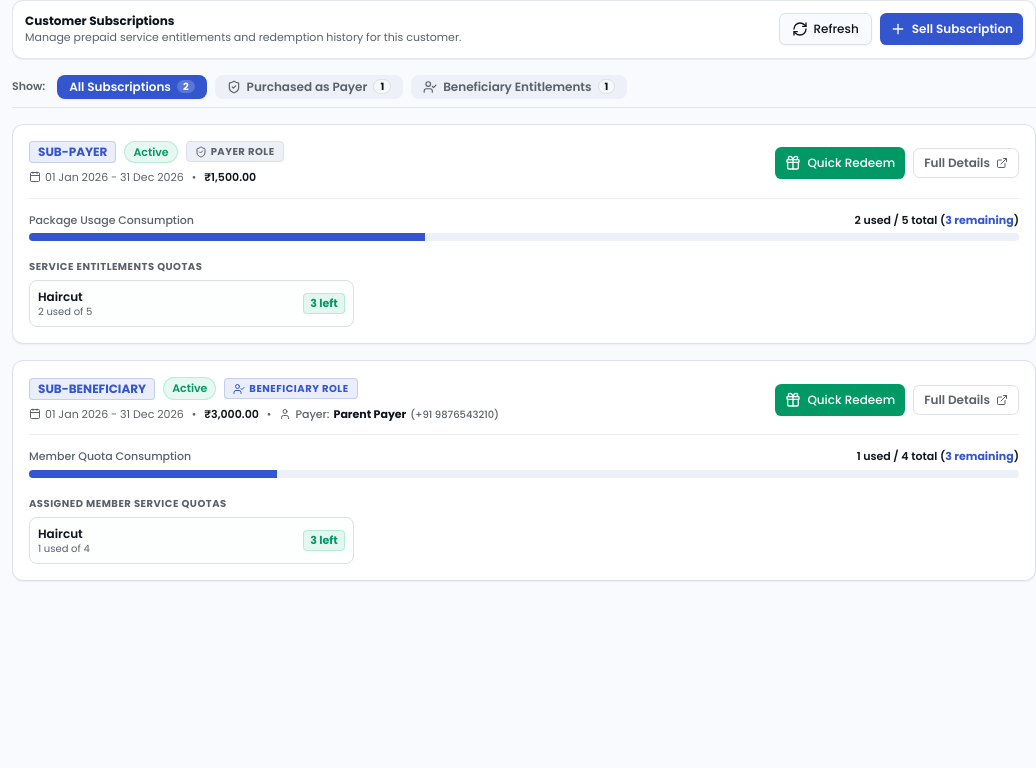
Test case: CustomerSubscriptionsTab - Production Grade Role Filtering › filters accurately and displays Payer attribution when 'Beneficiary Entitlements' tab is clicked
The width and height of the screenshot is (1036, 768).
Click the button "Beneficiary Entitlements 1" at (519, 86), box [411,74,627,98]
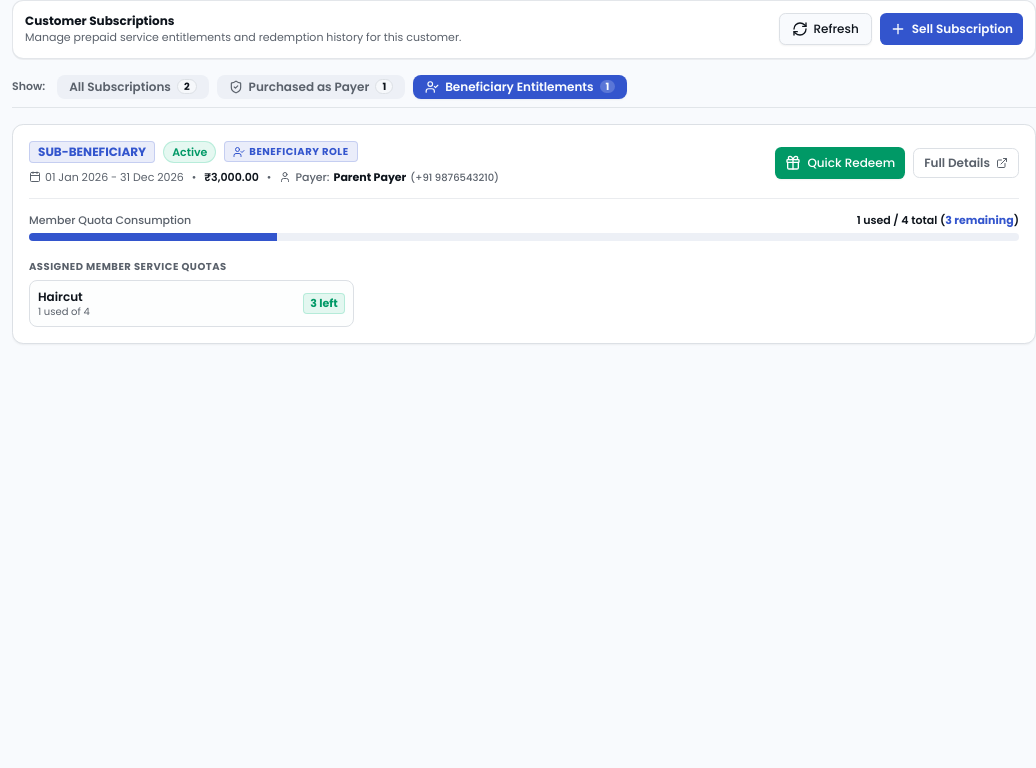
Expected: the text "SUB-BENEFICIARY" is shown, [29,141,155,163]
Now the text "SUB-PAYER" is gone
